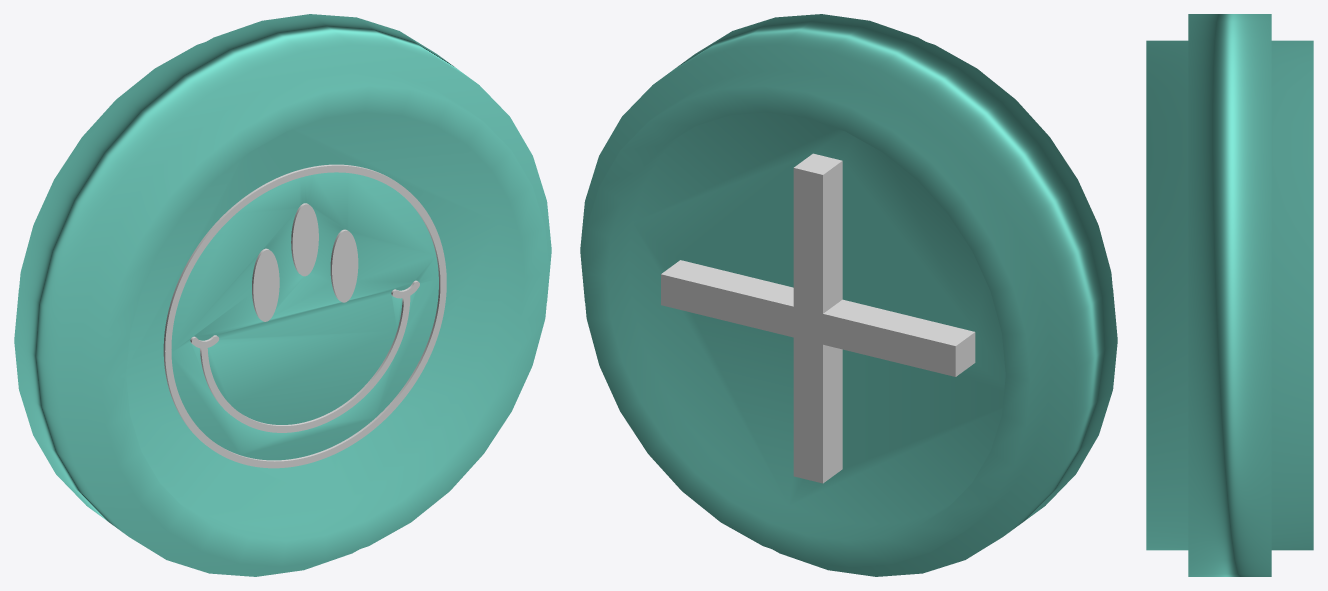
Rendered from pill v3.glb.
3 views of the same model, side by side, from view 1: azimuth 30°, elevation 25°; view 2: azimuth 150°, elevation 25°; view 3: azimuth 270°, elevation 25° (orthographic).
Visible parts, largest first — view 1: Cylinder, Curve; view 2: Cylinder, backside; view 3: Cylinder.
Part boxes in pixels (x1,y1,x2,y2): Cylinder: [14, 14, 551, 576]; Curve: [163, 164, 446, 468]; Cylinder: [580, 14, 1117, 576]; backside: [661, 153, 975, 483]; Cylinder: [1146, 14, 1313, 576].
Bounding box in the file's own units: 2 × 2 × 0.5944.
